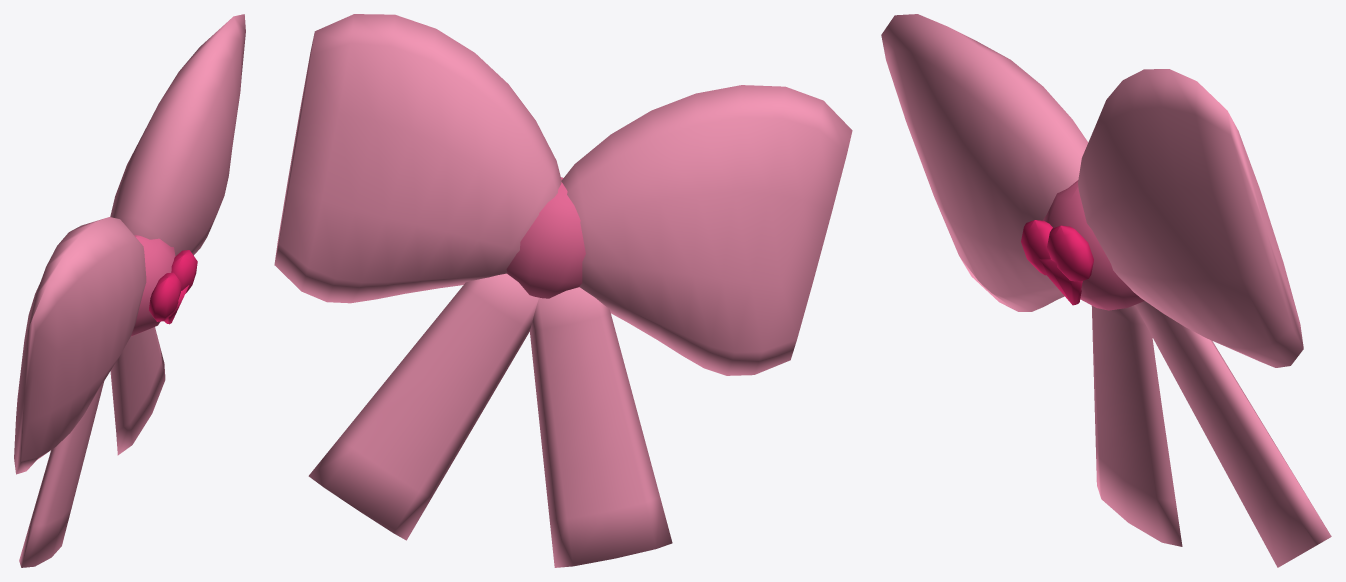
Rendered from head_ribbon.glb.
3 renders of one model, left to right at view 1: azimuth 30°, elevation 25°; view 2: azimuth 150°, elevation 25°; view 3: azimuth 270°, elevation 25°, orthographic. The views are drawn at different scales.
Visible parts, largest first — view 1: head_ribbon_q; view 2: head_ribbon_q; view 3: head_ribbon_q.
Part boxes in pixels (<box>): head_ribbon_q: <box>14,14,245,567</box>; head_ribbon_q: <box>274,14,852,567</box>; head_ribbon_q: <box>881,14,1331,567</box>.
Bounding box in the file's own units: 1.19 × 1.49 × 1.07.
